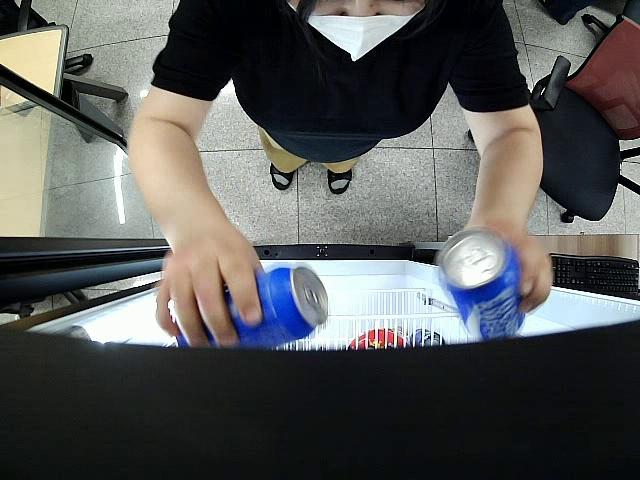00_hand: (155, 227, 268, 347), (462, 221, 555, 314)
13_pocariSweat: (173, 264, 326, 346), (435, 229, 525, 342)
